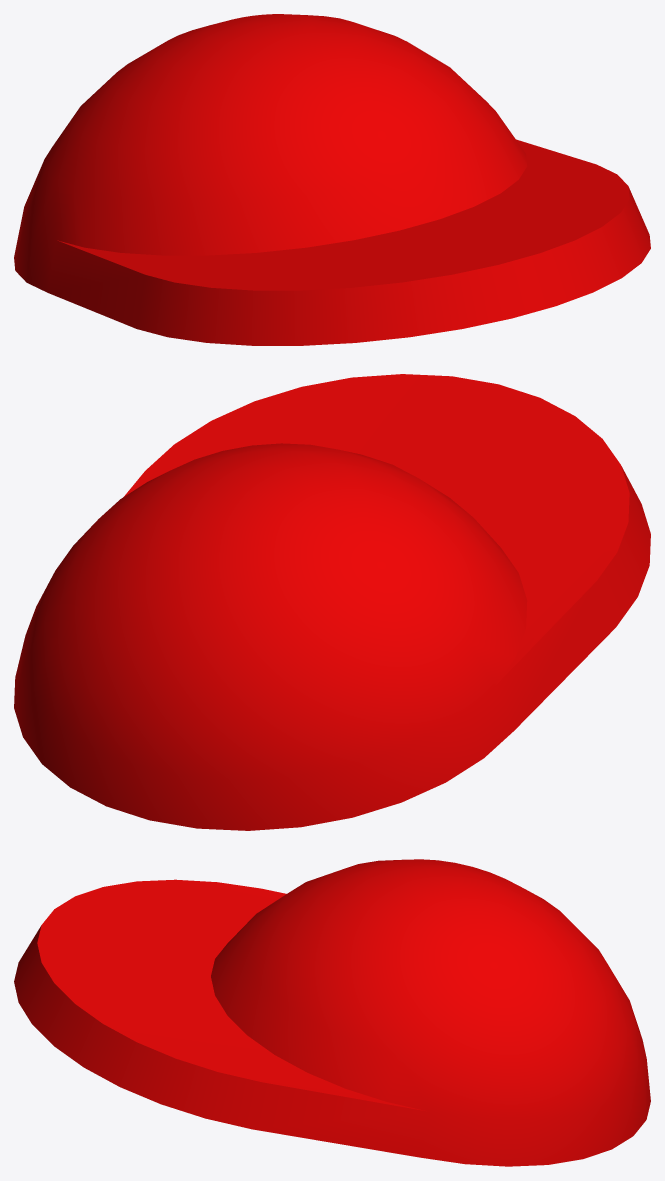
File: bb_hat_red.fbx
The picture shows the model from 3 angles, top to bottom: view 1: azimuth 30°, elevation 25°; view 2: azimuth 150°, elevation 25°; view 3: azimuth 270°, elevation 25°; orthographic projection. The views are drawn at different scales.
Visible parts, largest first — view 1: bb hat; view 2: bb hat; view 3: bb hat.
Part boxes in pixels (x1=…): bb hat: x1=14, y1=14, x2=650, y2=345; bb hat: x1=14, y1=374, x2=650, y2=830; bb hat: x1=14, y1=859, x2=650, y2=1166.
Size of the model in its own units: 111 by 55.58 by 145.
